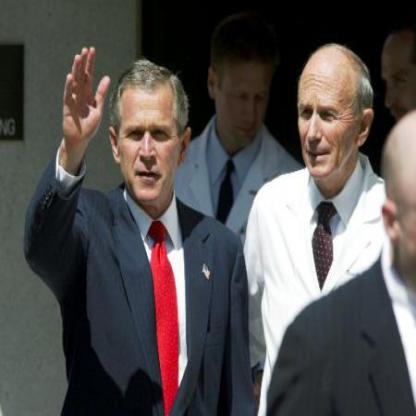face: (298, 47, 362, 184), (120, 71, 184, 206), (217, 35, 272, 150)
